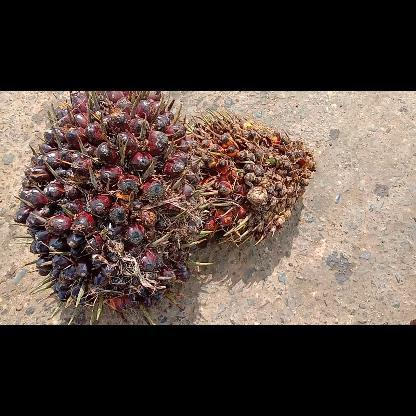Kurang masak: (10, 90, 212, 324)
TBS abnormal: (184, 110, 315, 244)
